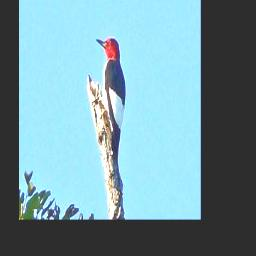Woodpecker: (91, 26, 133, 190)
